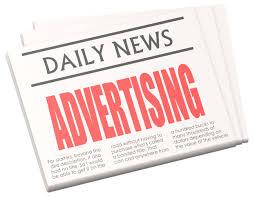Printing industry: (14, 16, 255, 198)
